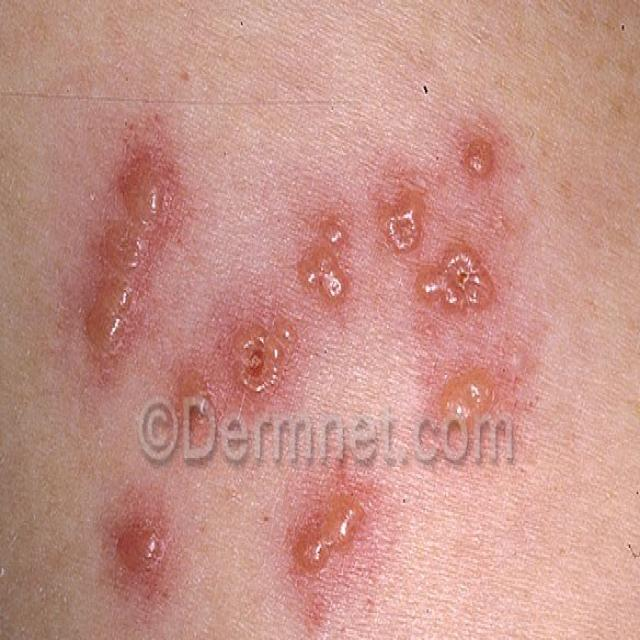Viral Infections: (55, 79, 548, 620)
